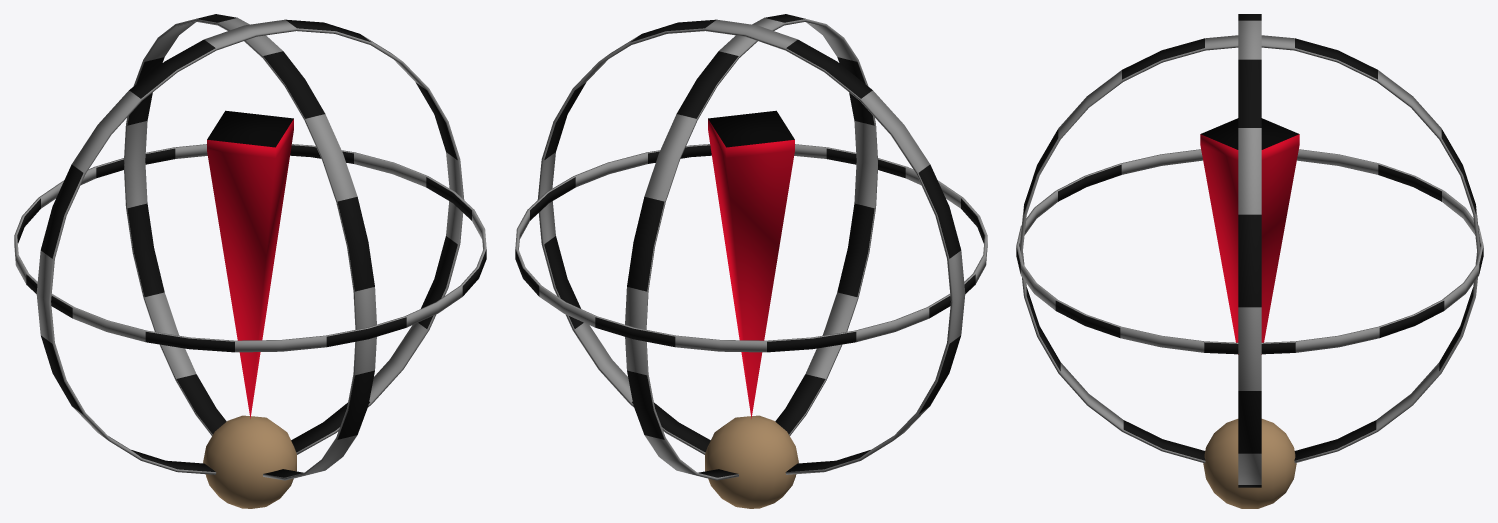
File: compass.fbx
3 views of the same model, side by side, from view 1: azimuth 30°, elevation 25°; view 2: azimuth 150°, elevation 25°; view 3: azimuth 270°, elevation 25° (orthographic).
Parts seen in each view (by area): view 1: Circle, Plane, Sphere; view 2: Circle, Plane, Sphere; view 3: Circle, Plane, Sphere.
Boxes of the visible parts, x1,y1,x2,y2 form: Circle: [14, 14, 486, 480]; Plane: [207, 110, 293, 418]; Sphere: [203, 415, 296, 508]; Circle: [515, 14, 987, 480]; Plane: [708, 110, 794, 418]; Sphere: [705, 415, 798, 508]; Circle: [1016, 14, 1483, 487]; Plane: [1200, 118, 1299, 354]; Sphere: [1203, 419, 1296, 508].
Size of the model in its own units: 2.03 by 2.21 by 2.
